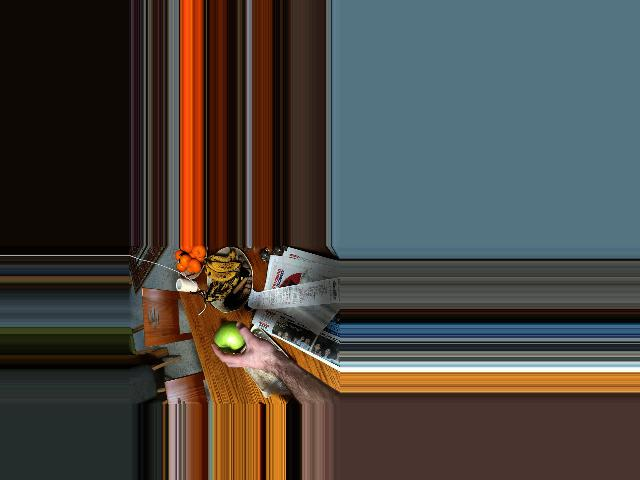apple: (215, 320, 246, 354)
